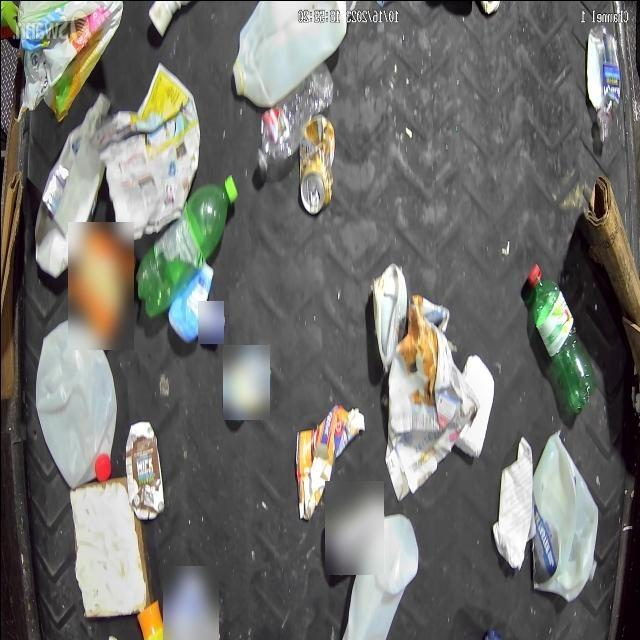milk_jug: (34, 90, 110, 278), (34, 318, 116, 488), (232, 0, 346, 107), (532, 432, 598, 603), (340, 514, 418, 640), (124, 419, 164, 519), (371, 262, 406, 370)
plastic_bottle: (256, 61, 333, 172), (585, 26, 619, 140)
